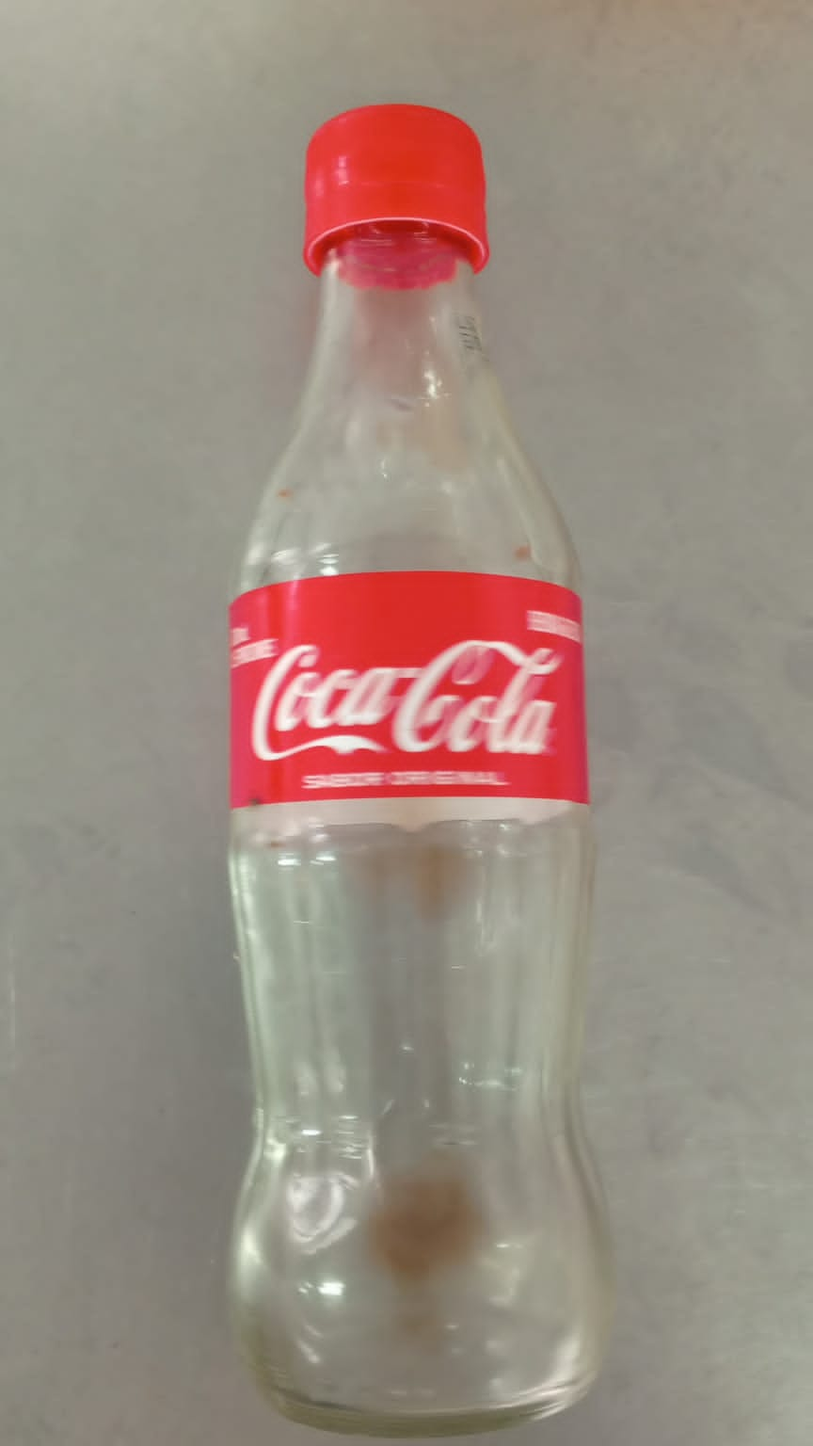Plastico: (300, 103, 484, 230)
Vidrio: (220, 234, 613, 1446)
